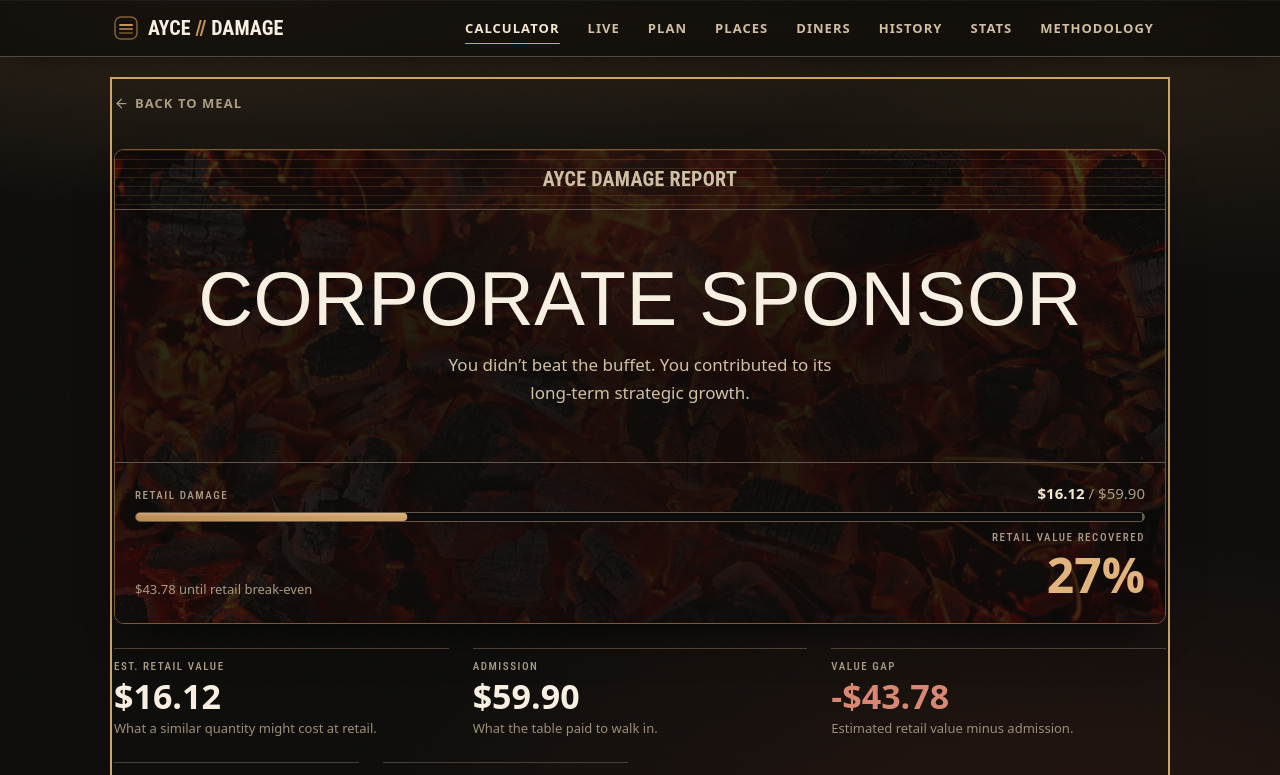
Stage history › keeps the user on the site when Back is used on a directly loaded report
Check: the heading "AYCE Damage Report" is shown, box [543,167,737,191]
Step 1. Click the button "Back to meal" → {"x": 178, "y": 103}, box [106,81,250,125]
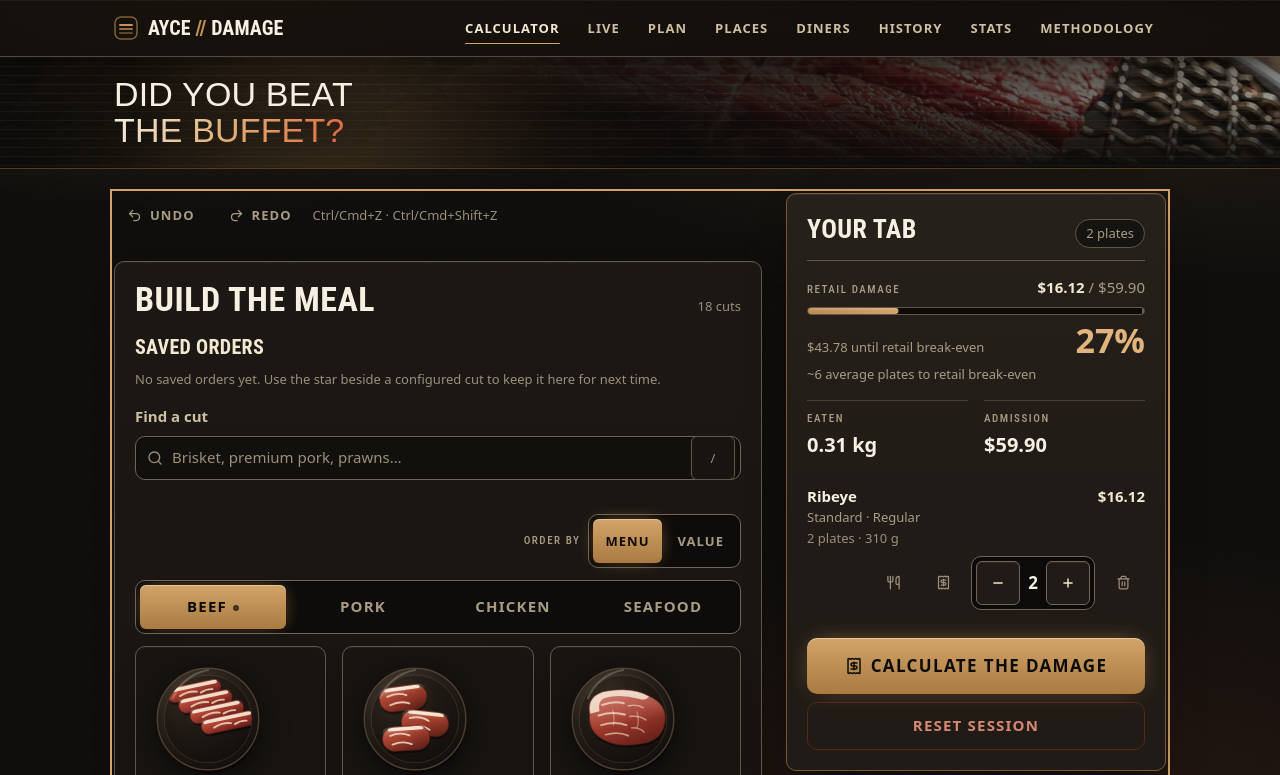
Check: the heading "AYCE Damage Report" is gone
